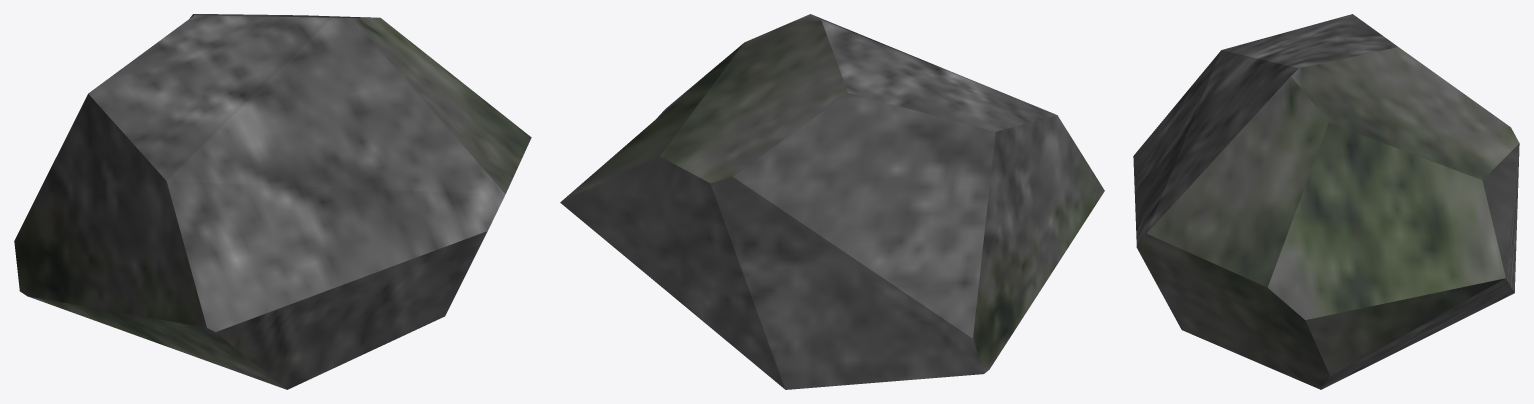
File: rock_med_03.glb
The picture shows the model from 3 angles, left to right: view 1: azimuth 30°, elevation 25°; view 2: azimuth 150°, elevation 25°; view 3: azimuth 270°, elevation 25°; orthographic projection. The views are drawn at different scales.
Parts seen in each view (by area): view 1: mediun rock 2; view 2: mediun rock 2; view 3: mediun rock 2.
Boxes of the visible parts, left/top/right/bottom form: mediun rock 2: left=14, top=14, right=531, bottom=389; mediun rock 2: left=560, top=14, right=1104, bottom=389; mediun rock 2: left=1133, top=14, right=1519, bottom=389.
Bounding box in the file's own units: 1.97 × 1.22 × 1.64.
Materials: 1 (1 with a texture image).
